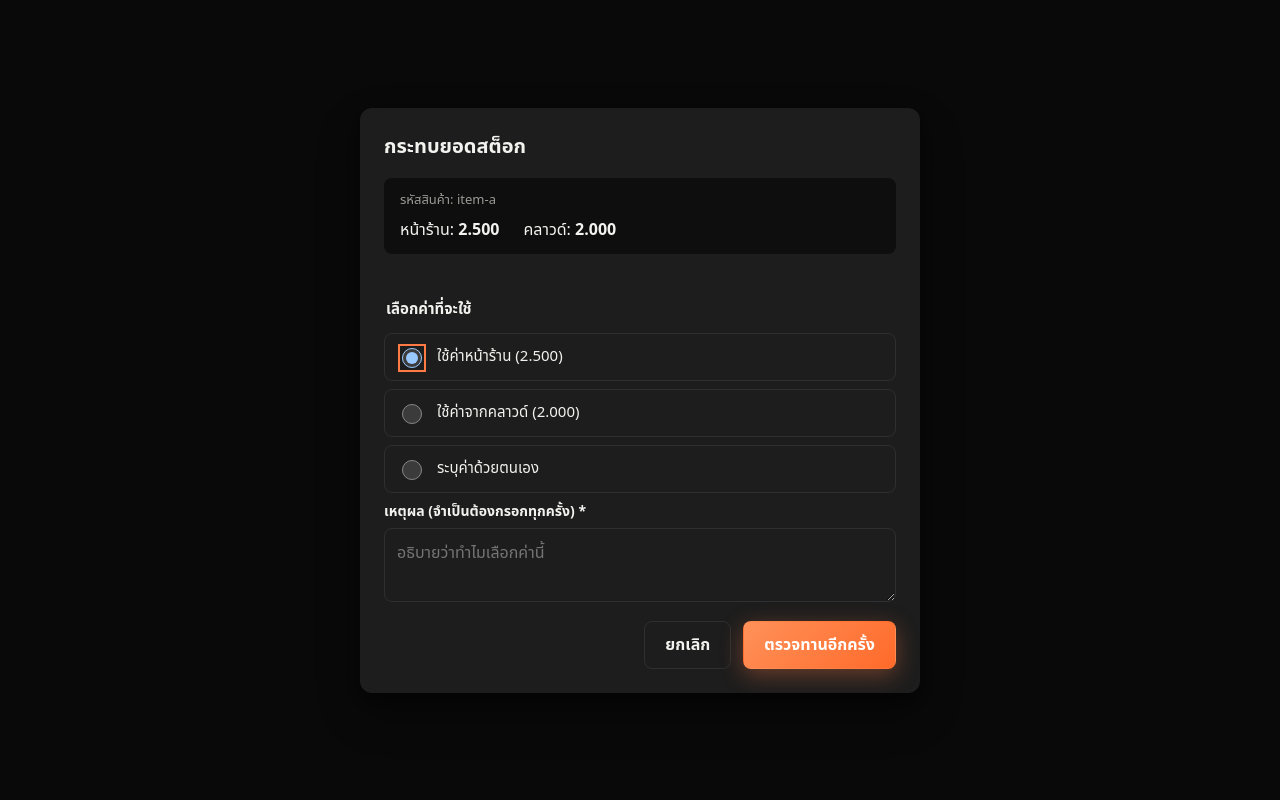
Scenario: ReconciliationOverlay › advances to a two-step confirm when the reason is filled
Type "นับ physical" into the text box labelled "เหตุผล (จำเป็นต้องกรอกทุกครั้ง) *".
click(640, 564); type("นับ physical")  # box [384, 528, 896, 602]
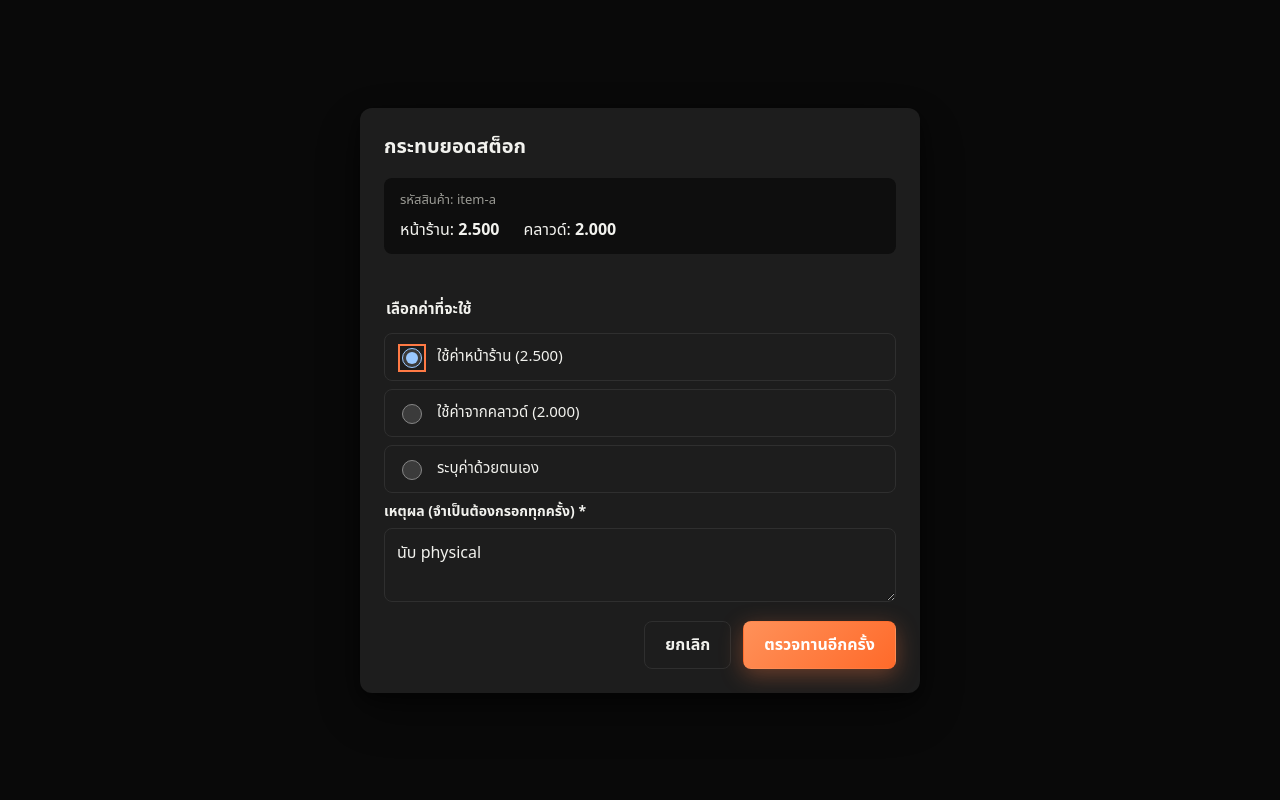
Click the button "ตรวจทานอีกครั้ง".
click(820, 644)  # box [743, 620, 896, 668]
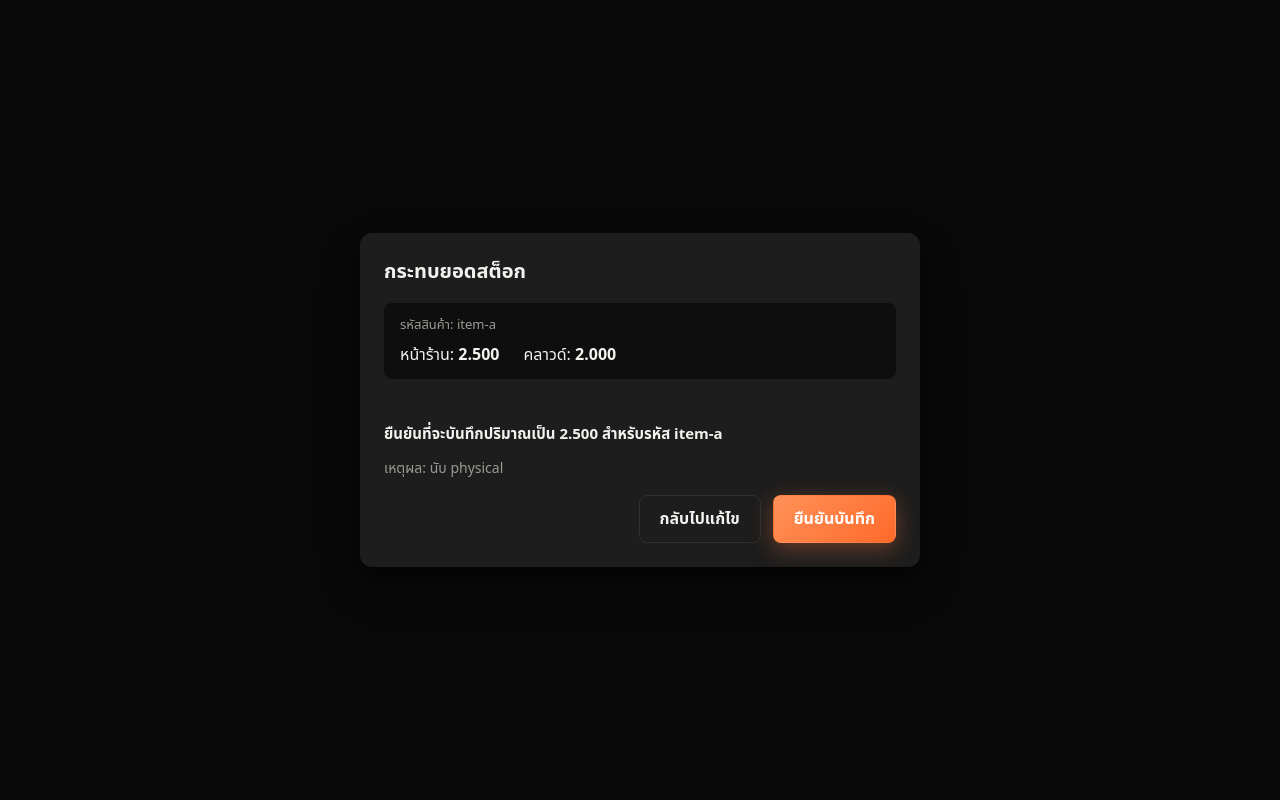
Now the button "ยืนยันบันทึก" is shown, box [773, 495, 896, 543]
